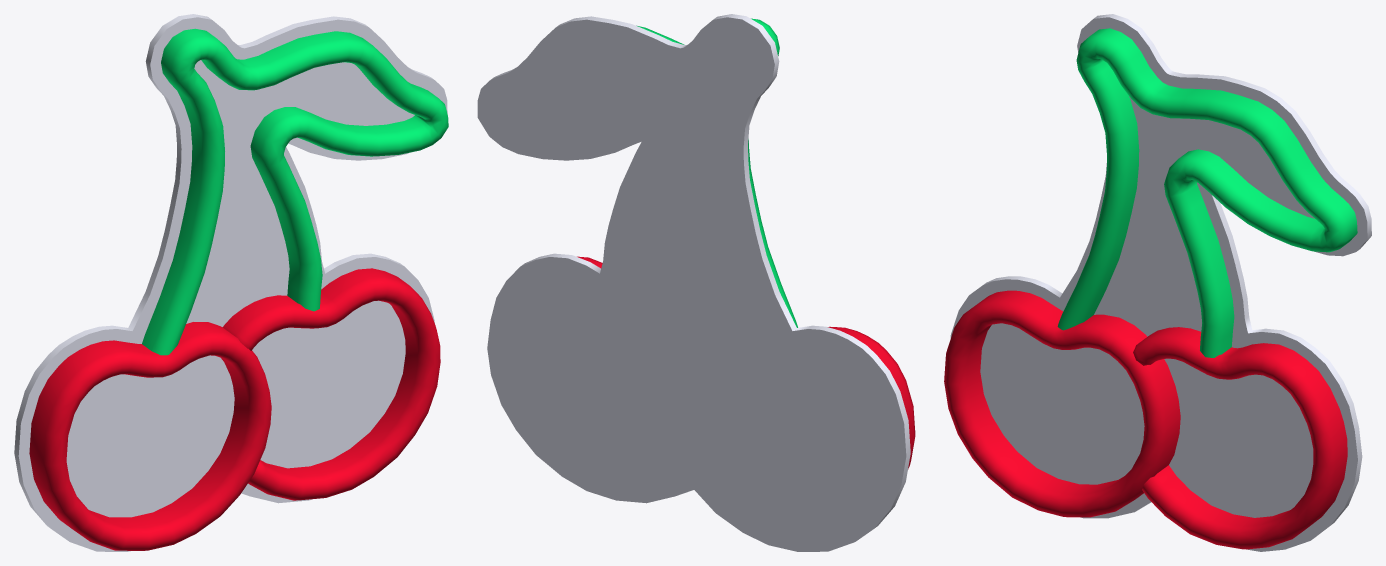
File: NeonSignCherry.fbx
The picture shows the model from 3 angles, left to right: view 1: azimuth 30°, elevation 25°; view 2: azimuth 150°, elevation 25°; view 3: azimuth 330°, elevation 25°; orthographic projection. The views are drawn at different scales.
Visible parts, largest first — view 1: NeonSignCherry; view 2: NeonSignCherry; view 3: NeonSignCherry.
Boxes of the visible parts, box(x1,y1,x2,y2) form: NeonSignCherry: box(14, 14, 448, 551); NeonSignCherry: box(477, 14, 915, 551); NeonSignCherry: box(944, 14, 1371, 551).
Bounding box in the file's own units: 7.84 × 9.08 × 0.7868.
